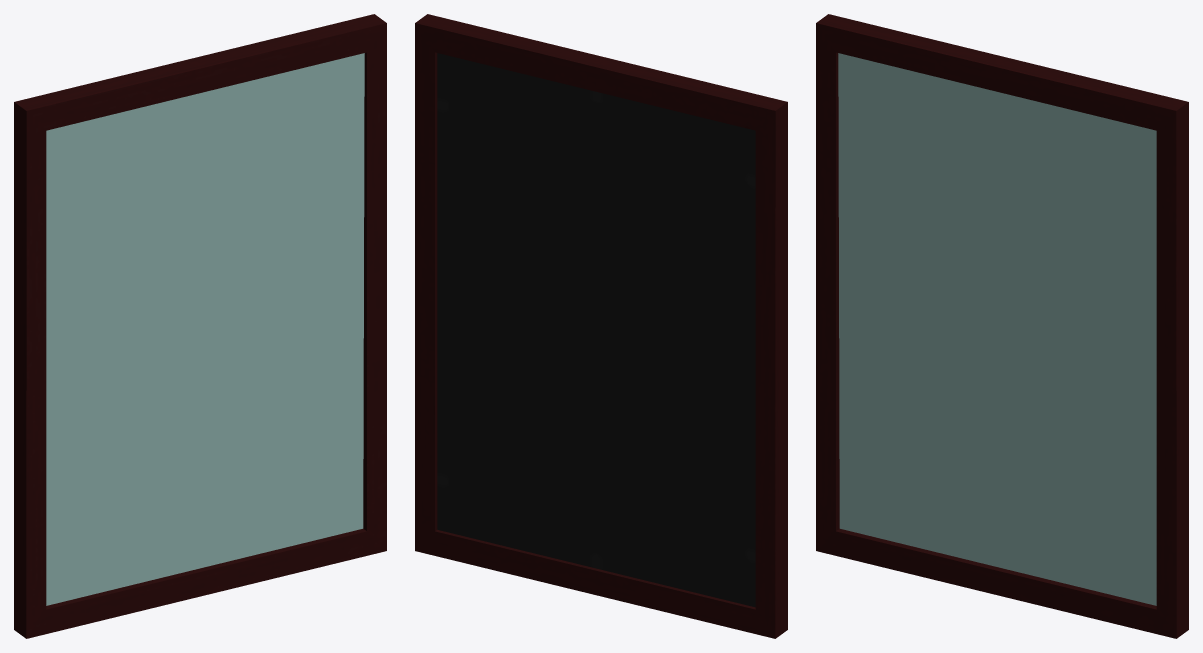
The model's file is CertificateB.fbx.
3 views of the same model, side by side, from view 1: azimuth 30°, elevation 25°; view 2: azimuth 150°, elevation 25°; view 3: azimuth 330°, elevation 25° (orthographic).
Parts seen in each view (by area): view 1: CertificateB; view 2: CertificateB; view 3: CertificateB.
Part boxes in pixels (x1,y1,x2,y2): CertificateB: (14,14,386,638); CertificateB: (415,14,787,638); CertificateB: (816,14,1188,638).
Size of the model in its own units: 35.33 by 49.46 by 2.12.
